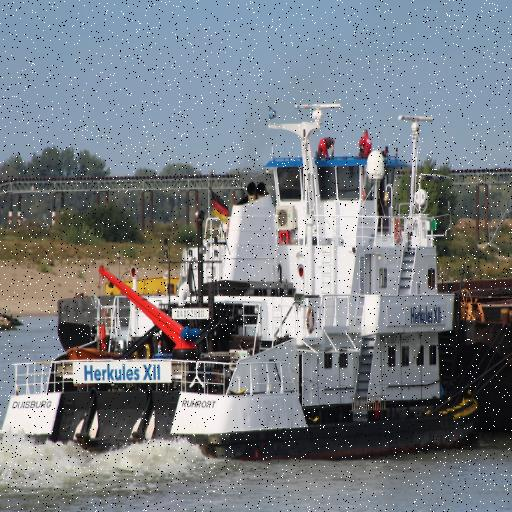tugboat: (1, 100, 483, 470)
